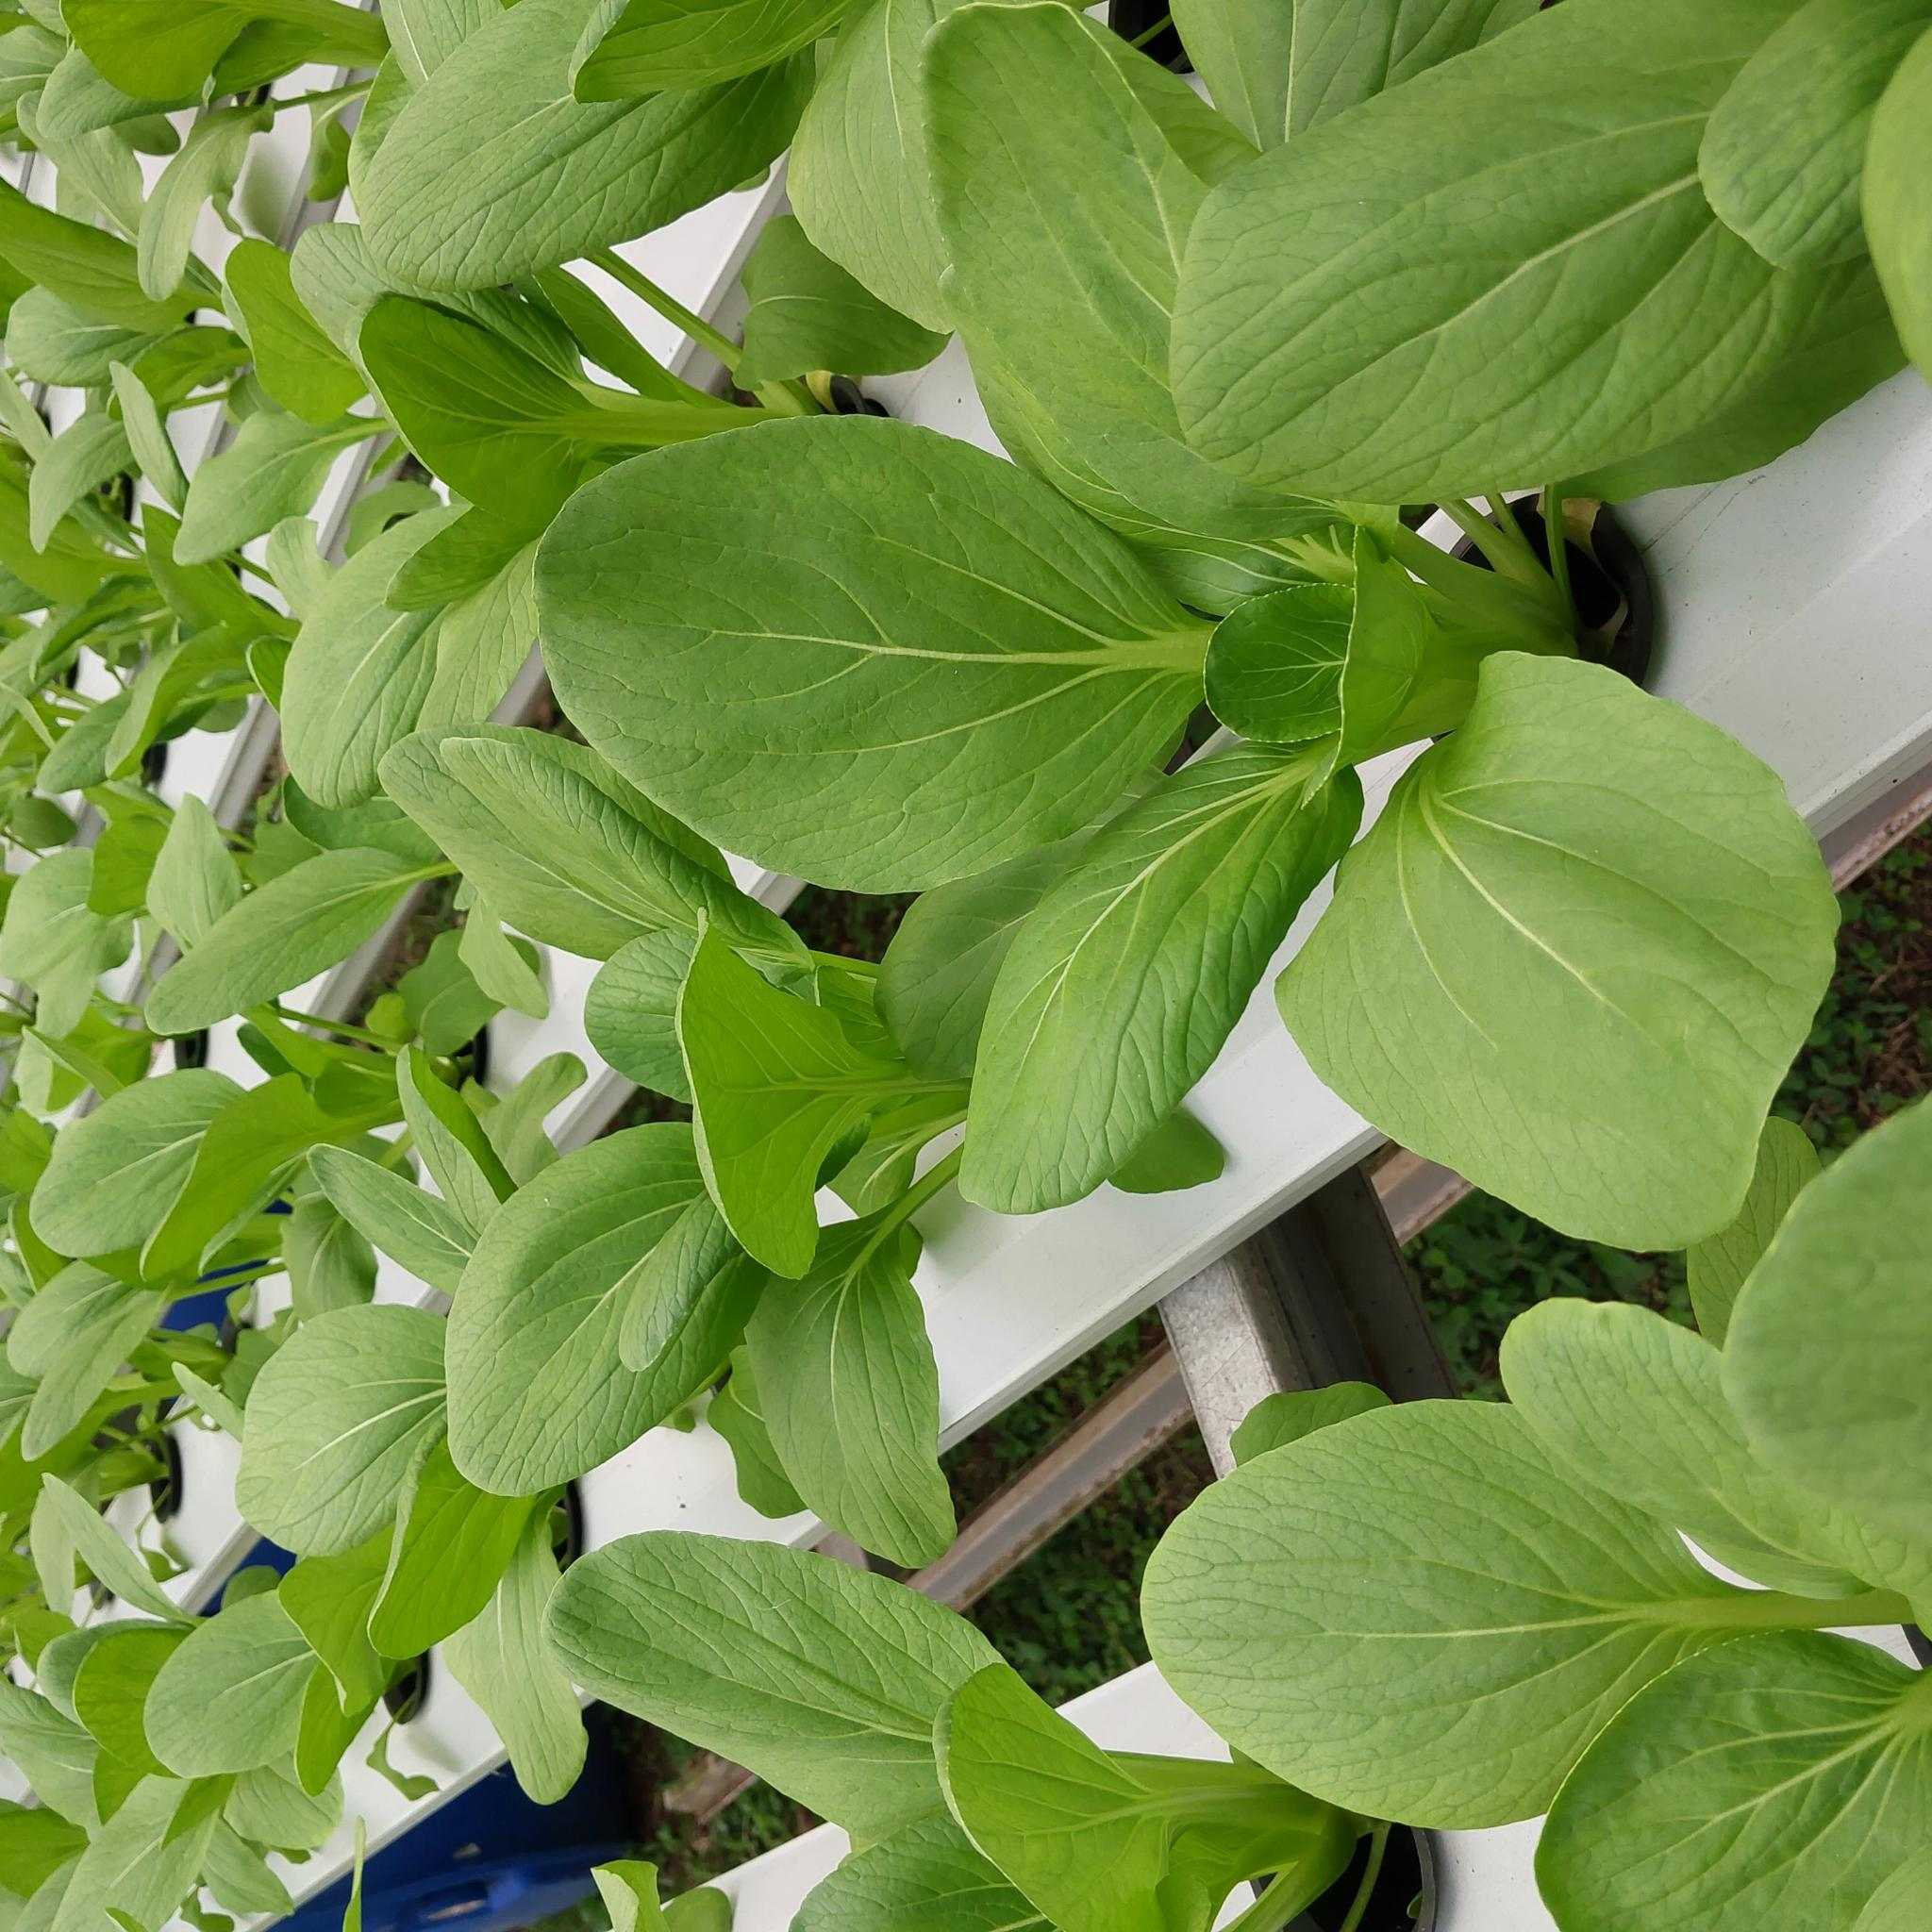Healthy-Pechay: (255, 0, 1872, 1863), (816, 2, 1299, 603), (518, 418, 989, 883), (338, 2, 839, 301), (548, 1536, 989, 1852), (435, 1123, 764, 1514), (663, 936, 970, 1270), (400, 750, 803, 971), (736, 1198, 952, 1587), (782, 0, 998, 363), (267, 504, 501, 819), (232, 1302, 465, 1566), (280, 219, 589, 418), (133, 842, 451, 1016), (23, 1074, 271, 1270), (0, 159, 230, 368), (573, 916, 830, 1102), (444, 1500, 589, 1810), (370, 1435, 559, 1672), (159, 372, 379, 571), (142, 1587, 345, 1787), (724, 212, 939, 396), (7, 1258, 175, 1460), (216, 234, 386, 426), (276, 1532, 419, 1750), (99, 612, 278, 778), (27, 1467, 202, 1628), (303, 1139, 479, 1299), (140, 101, 271, 311), (64, 1626, 216, 1806), (134, 499, 290, 660), (389, 1046, 515, 1230), (2, 844, 133, 1008), (878, 870, 989, 1060), (23, 389, 147, 557), (2, 1661, 110, 1835), (30, 671, 159, 800), (143, 789, 242, 955), (1428, 487, 1566, 605), (110, 361, 191, 527), (1539, 488, 1583, 646)
